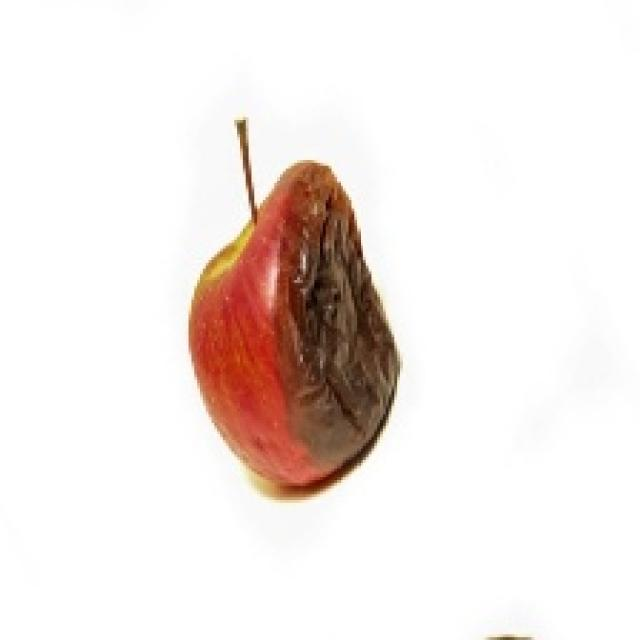rotten_apple: (192, 164, 396, 483)
